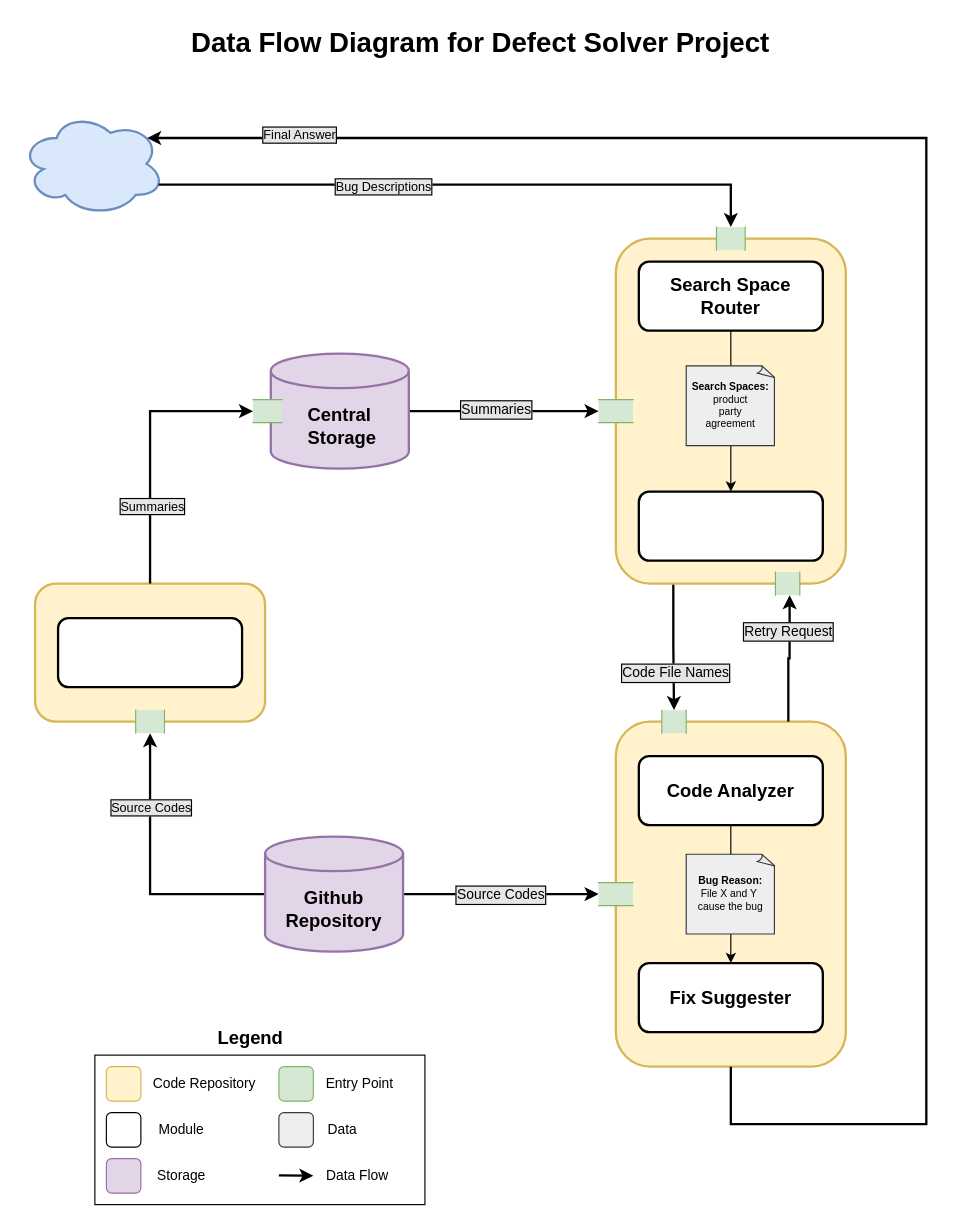
This 957x1225 diagram has some shape labels left out. The box of each missing label's shape, as (x1, y1, x2, y2) in pixels:
Bug Localizer: (637, 490, 823, 561)
Codebase Summarizer: (56, 616, 243, 688)
Jira: (19, 110, 165, 216)
